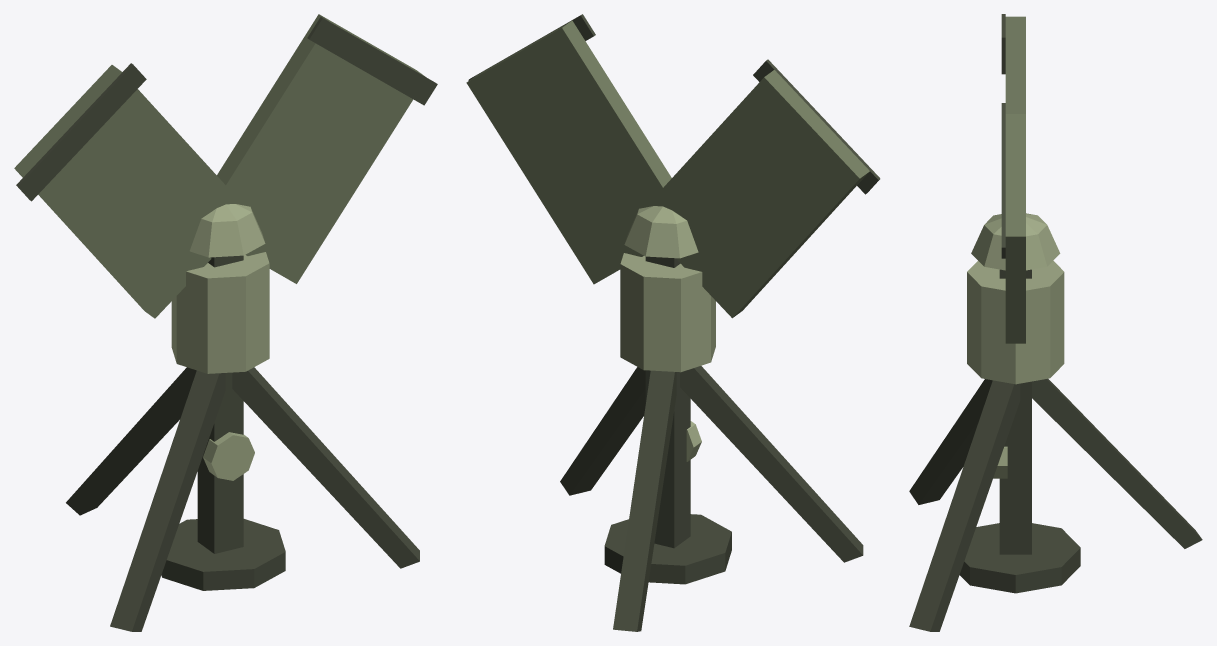
Rendered from quest_psychic_emanator.obj.
The picture shows the model from 3 angles, left to right: view 1: azimuth 30°, elevation 25°; view 2: azimuth 150°, elevation 25°; view 3: azimuth 270°, elevation 25°; orthographic projection. The views are drawn at different scales.
Parts seen in each view (by area): view 1: quest_psychic_emanator; view 2: quest_psychic_emanator; view 3: quest_psychic_emanator.
Part boxes in pixels (x1,y1,x2,y2): quest_psychic_emanator: [14, 14, 437, 631]; quest_psychic_emanator: [466, 14, 880, 631]; quest_psychic_emanator: [909, 14, 1202, 631].
Bounding box in the file's own units: 1.15 × 1.38 × 0.7235.
